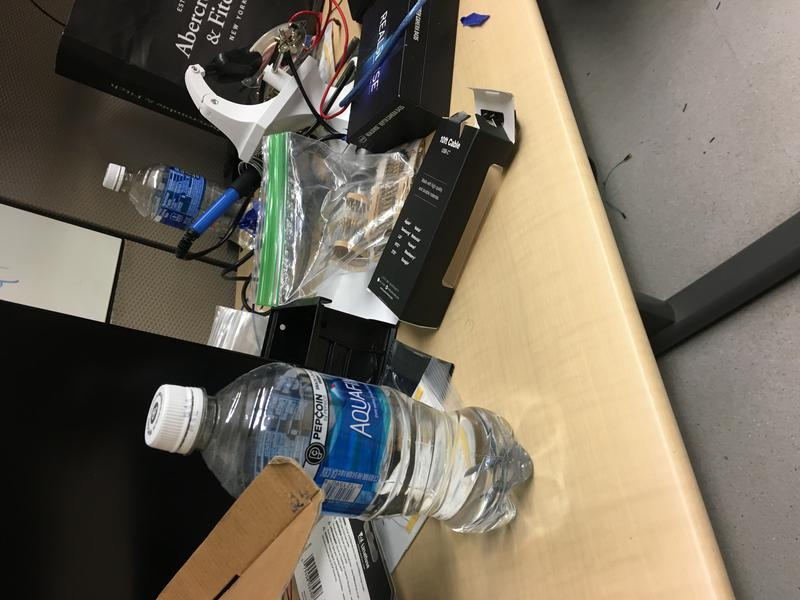bottle: (143, 360, 534, 538), (101, 161, 280, 253)
